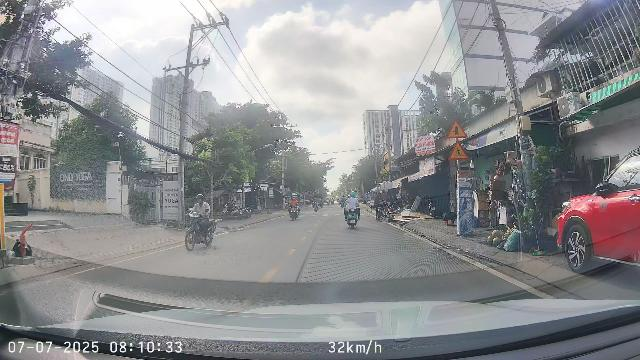207-giao-nhau-voi-duong-khong-uu-tien: (447, 120, 467, 138)
224-duong-nguoi-di-bo-cat-ngang: (448, 141, 469, 160)
